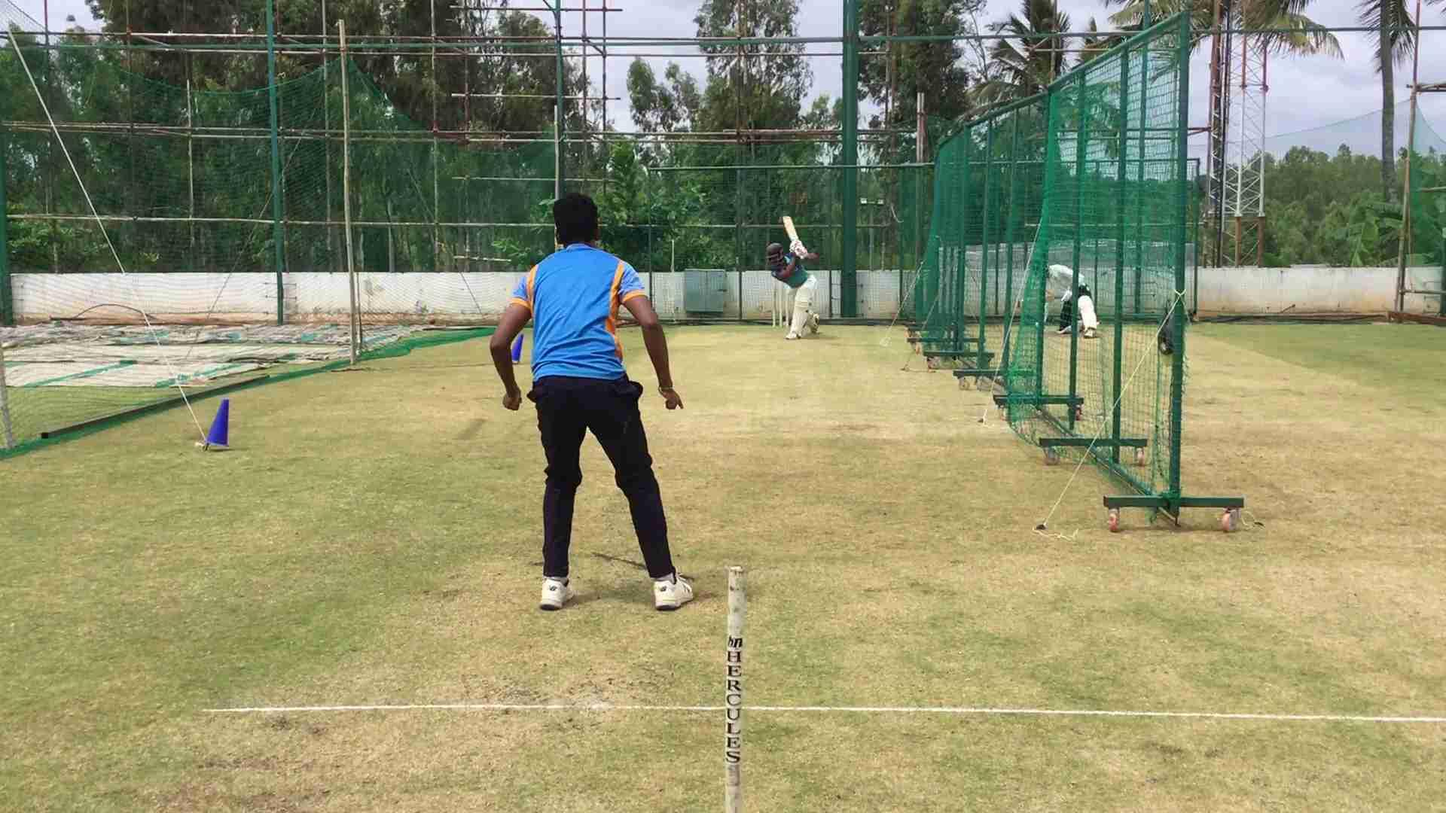batsman: (759, 237, 825, 341)
